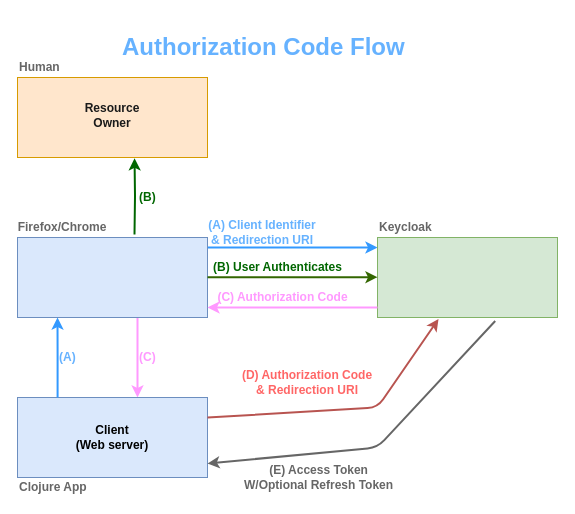
The diagram is 575 pixels wide and 514 high, and some of its shapes have lost their labels. The shapes that lost their labels are listed below. From the top down, each one's box as (x1, y1, x2, y2) in pixels, then its label:
(16, 236, 208, 318): User Agent (Web browser)
(376, 236, 558, 318): Authorization Server
